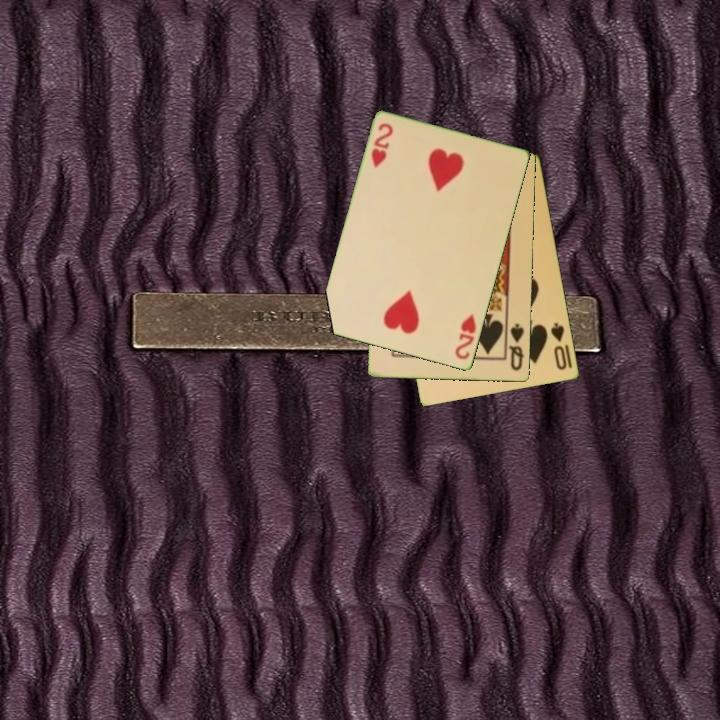10s: (548, 319, 570, 373)
2h: (368, 120, 396, 171), (452, 311, 479, 363)
Qs: (506, 320, 527, 374)
